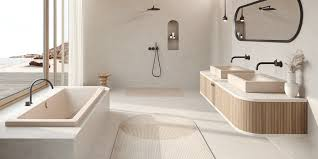bathub: (14, 65, 125, 154)
